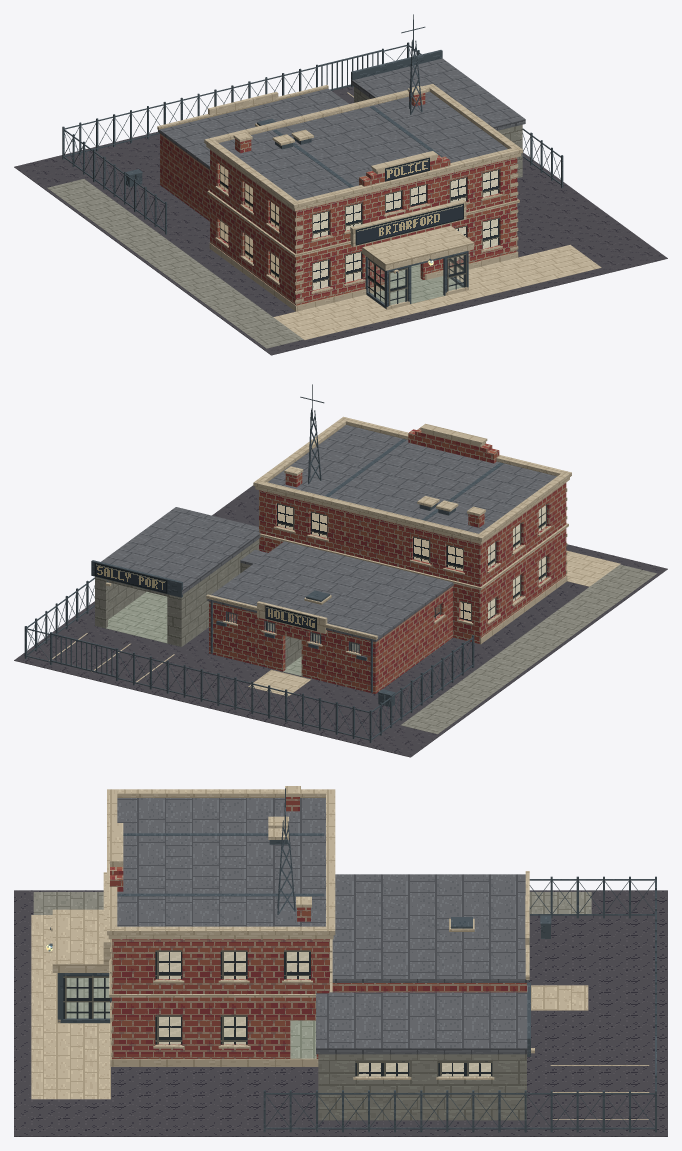
File: briarford-1980.glb
3 views of the same model, one above another, from view 1: azimuth 30°, elevation 25°; view 2: azimuth 150°, elevation 25°; view 3: azimuth 270°, elevation 25° (orthographic). The views are drawn at different scales.
Visible parts, largest first — view 1: shell, lot, yard_fence, sign_name, interior, yard_gate, radio_mast; view 2: shell, lot, yard_fence, interior, yard_gate, radio_mast; view 3: shell, lot, yard_fence, interior, radio_mast.
Part boxes in pixels (x1,y1,x2,y2): shell: (157,50,525,311); lot: (14,86,667,355); yard_fence: (62,42,563,234); sign_name: (355,203,463,245); interior: (208,176,522,304); yard_gate: (318,50,382,90); radio_mast: (401,14,425,114); shell: (91,416,571,693); lot: (14,485,667,757); yard_fence: (24,577,474,742); interior: (95,591,479,677); yard_gate: (51,633,115,677); radio_mast: (300,384,324,484); shell: (46,786,530,1120); lot: (14,890,667,1136); yard_fence: (263,876,656,1132); interior: (60,978,316,1058); radio_mast: (277,788,295,914).
Size of what is drawn, in the model's own units: 26.7 by 13 by 30.
Materials: 12 (12 with a texture image).
